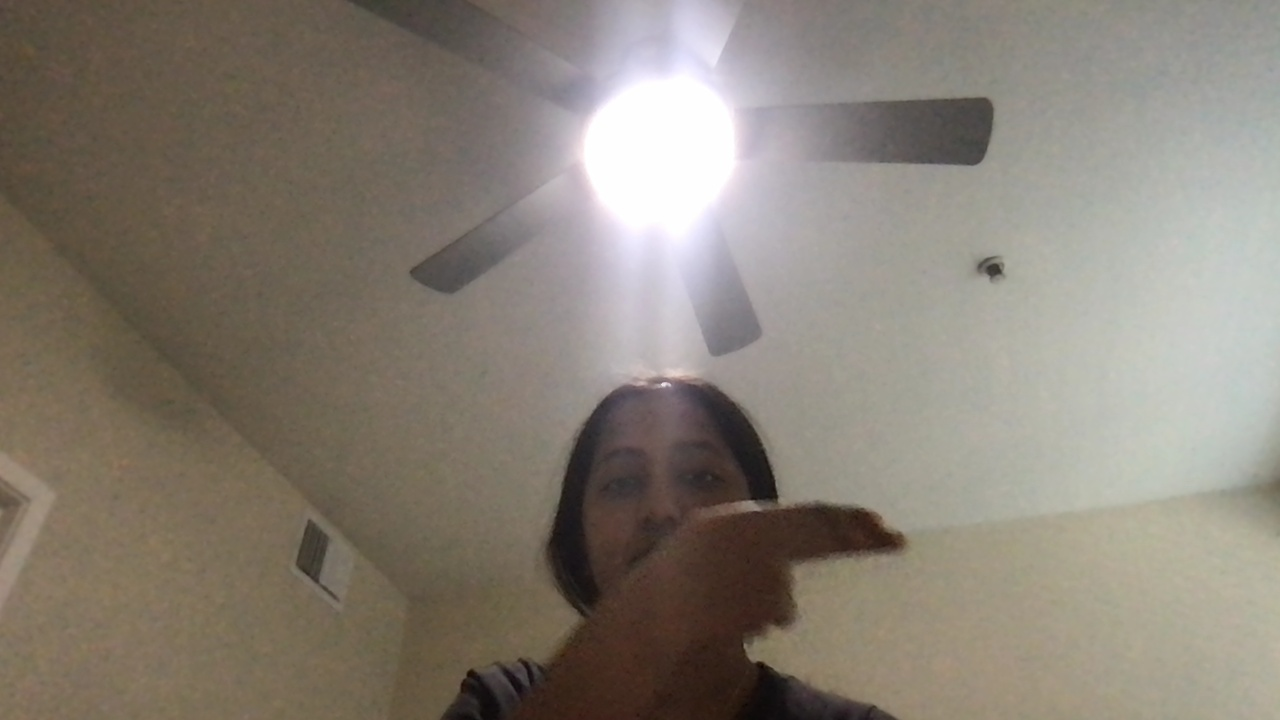h: (693, 503, 923, 641)
